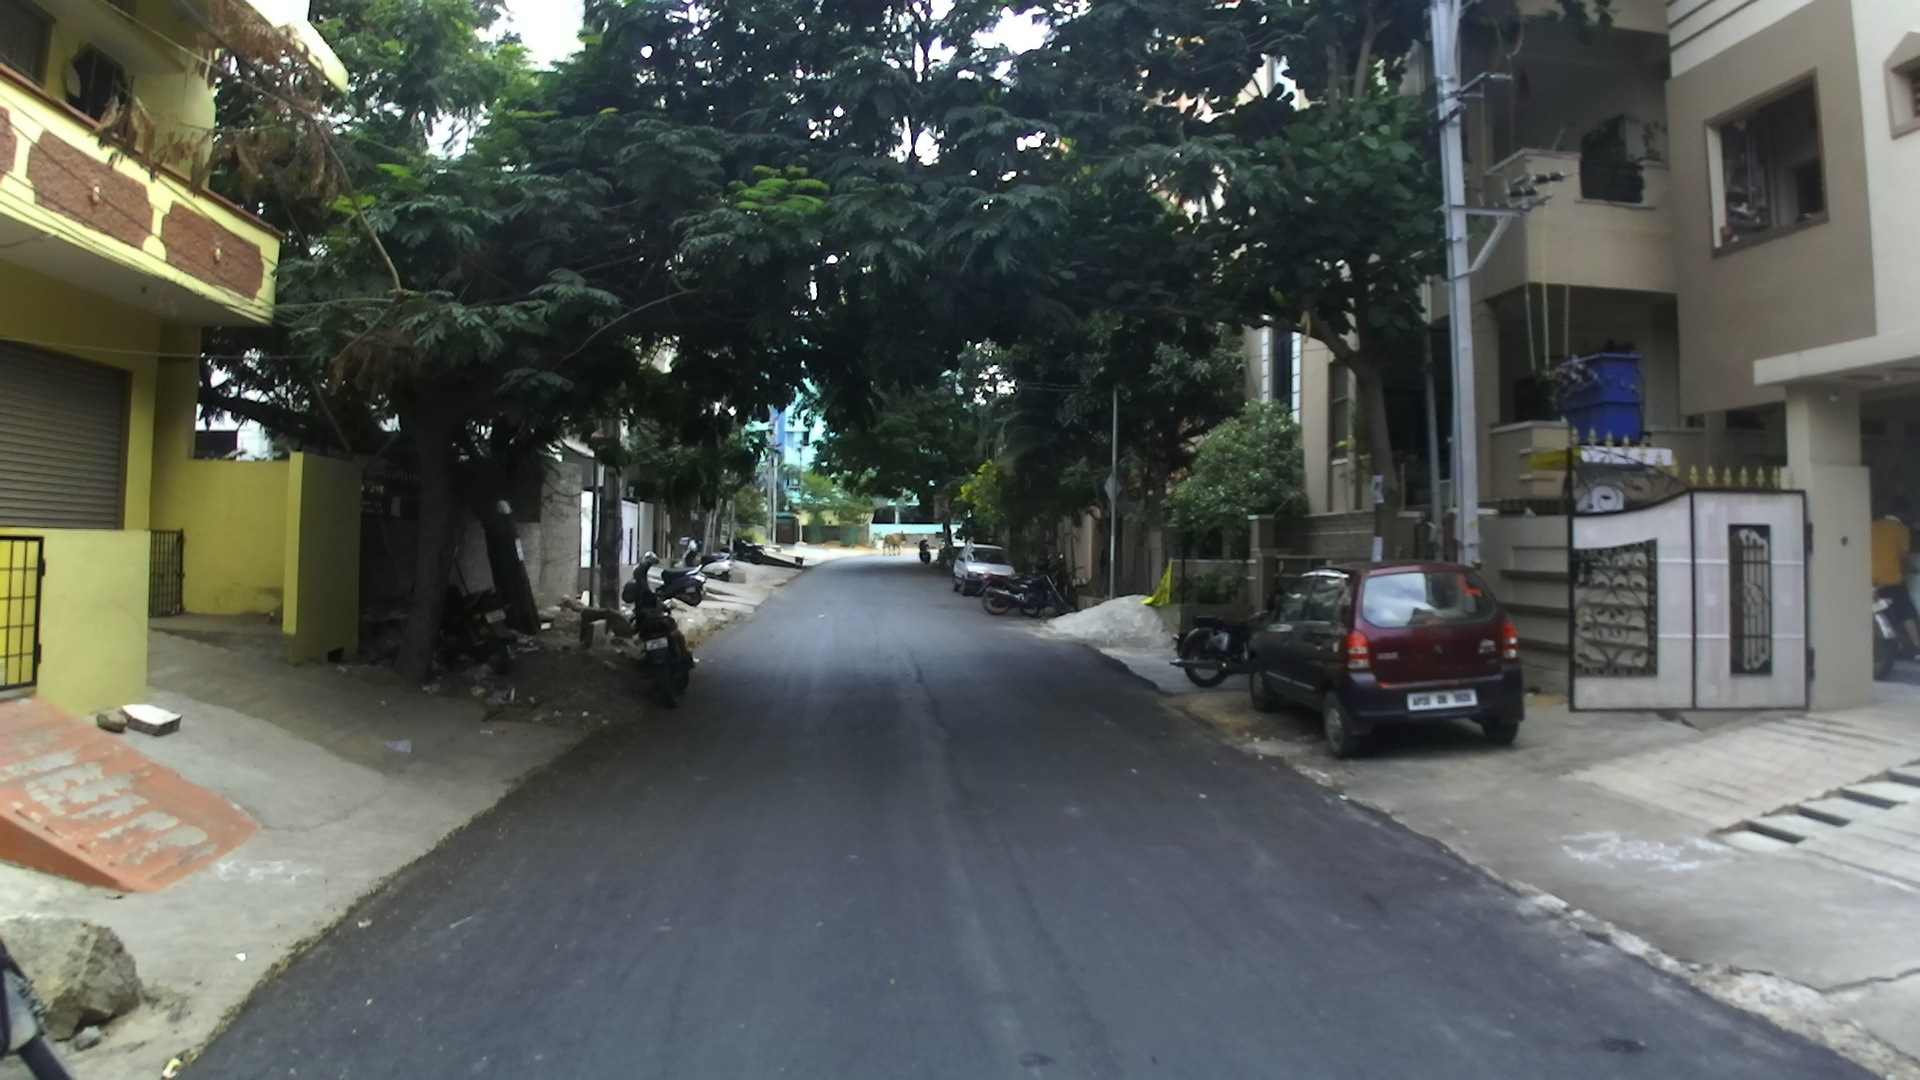vehicle: (1244, 560, 1527, 756), (625, 589, 698, 708), (952, 546, 1017, 599)
